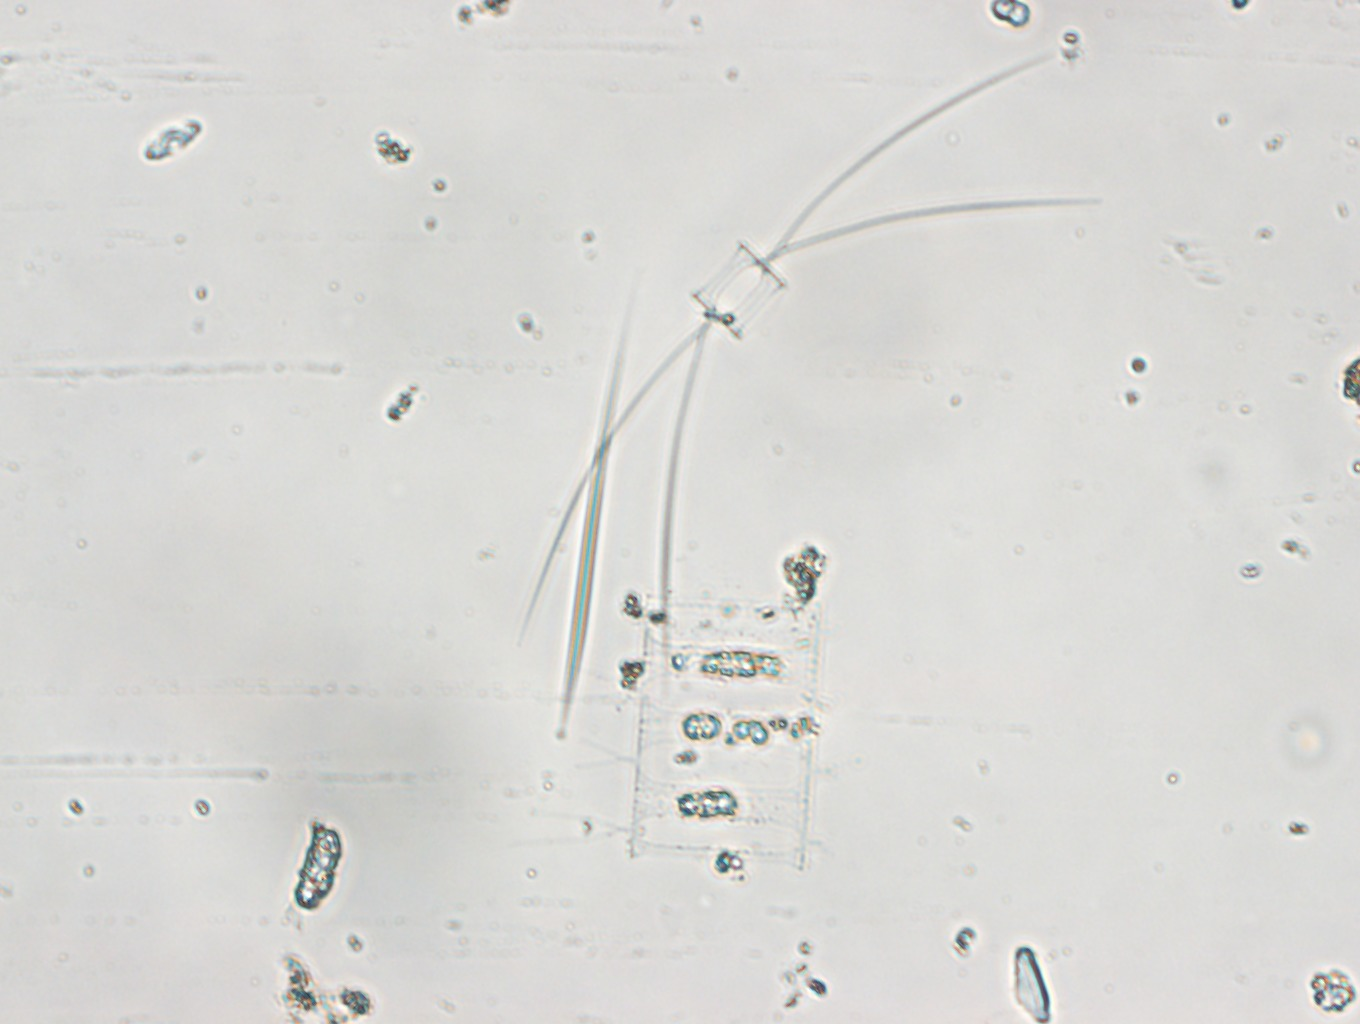chaetoceros: (511, 58, 1087, 695)
